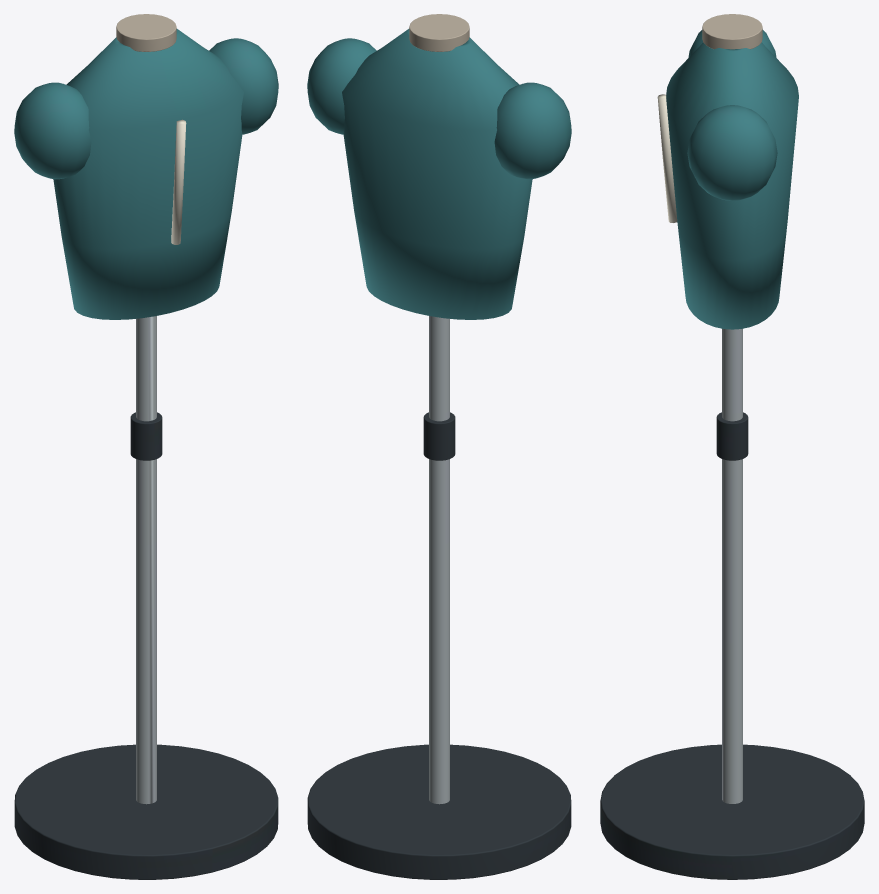
The model's file is horror-torso-mannequin.glb.
3 views of the same model, side by side, from view 1: azimuth 30°, elevation 25°; view 2: azimuth 150°, elevation 25°; view 3: azimuth 270°, elevation 25° (orthographic).
Parts seen in each view (by area): view 1: Original opaque dressed torso, Mannequin weighted display plinth, Mannequin adjustable support, Closed short sleeve shoulder, Closed short sleeve shoulder.001, Mannequin torso neck cap, Mannequin support collar, Original shirt front placket; view 2: Original opaque dressed torso, Mannequin weighted display plinth, Mannequin adjustable support, Closed short sleeve shoulder, Closed short sleeve shoulder.001, Mannequin torso neck cap, Mannequin support collar; view 3: Mannequin weighted display plinth, Original opaque dressed torso, Mannequin adjustable support, Closed short sleeve shoulder.001, Mannequin torso neck cap, Mannequin support collar, Original shirt front placket.
Part boxes in pixels (box(x1,y1,x2,y2)): Original opaque dressed torso: box(53, 29, 243, 319); Mannequin weighted display plinth: box(14, 744, 278, 879); Mannequin adjustable support: box(136, 316, 156, 804); Closed short sleeve shoulder: box(14, 82, 91, 179); Closed short sleeve shoulder.001: box(209, 38, 278, 134); Mannequin torso neck cap: box(116, 14, 176, 51); Mannequin support collar: box(130, 412, 162, 460); Original shirt front placket: box(171, 119, 186, 244); Original opaque dressed torso: box(342, 29, 532, 319); Mannequin weighted display plinth: box(307, 744, 571, 879); Mannequin adjustable support: box(429, 316, 449, 804); Closed short sleeve shoulder: box(494, 82, 571, 179); Closed short sleeve shoulder.001: box(307, 38, 376, 134); Mannequin torso neck cap: box(409, 14, 469, 51); Mannequin support collar: box(423, 412, 455, 460); Mannequin weighted display plinth: box(600, 744, 864, 879); Original opaque dressed torso: box(666, 42, 798, 329); Mannequin adjustable support: box(722, 328, 742, 803); Closed short sleeve shoulder.001: box(687, 105, 777, 200); Mannequin torso neck cap: box(702, 14, 762, 49); Mannequin support collar: box(716, 412, 748, 460); Original shirt front placket: box(657, 94, 677, 222).
Bounding box in the file's own units: 0.53 × 1.6 × 0.48.
Materials: 6 (6 with a texture image).
